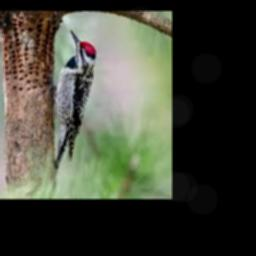Woodpecker: (53, 29, 95, 172)
